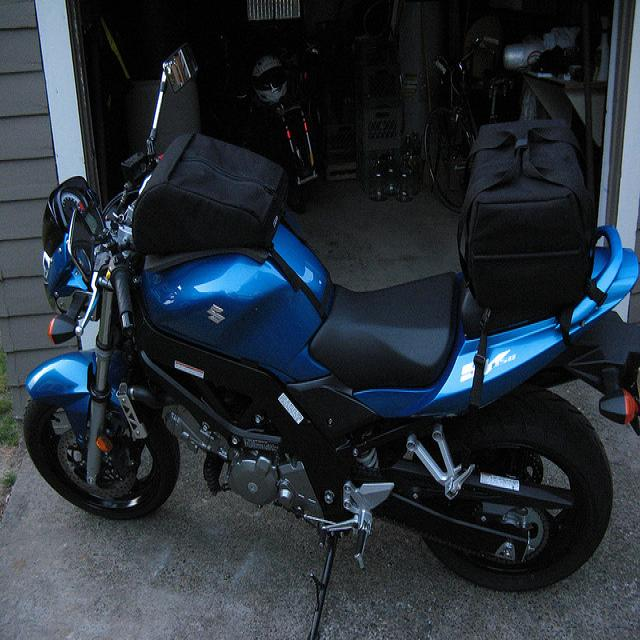motor: (23, 46, 640, 640), (248, 33, 332, 213)
